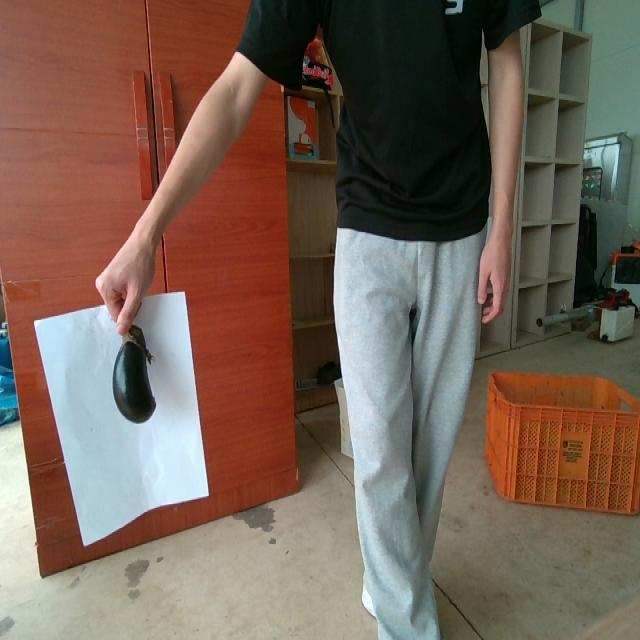Egg plant: (113, 325, 155, 421)
